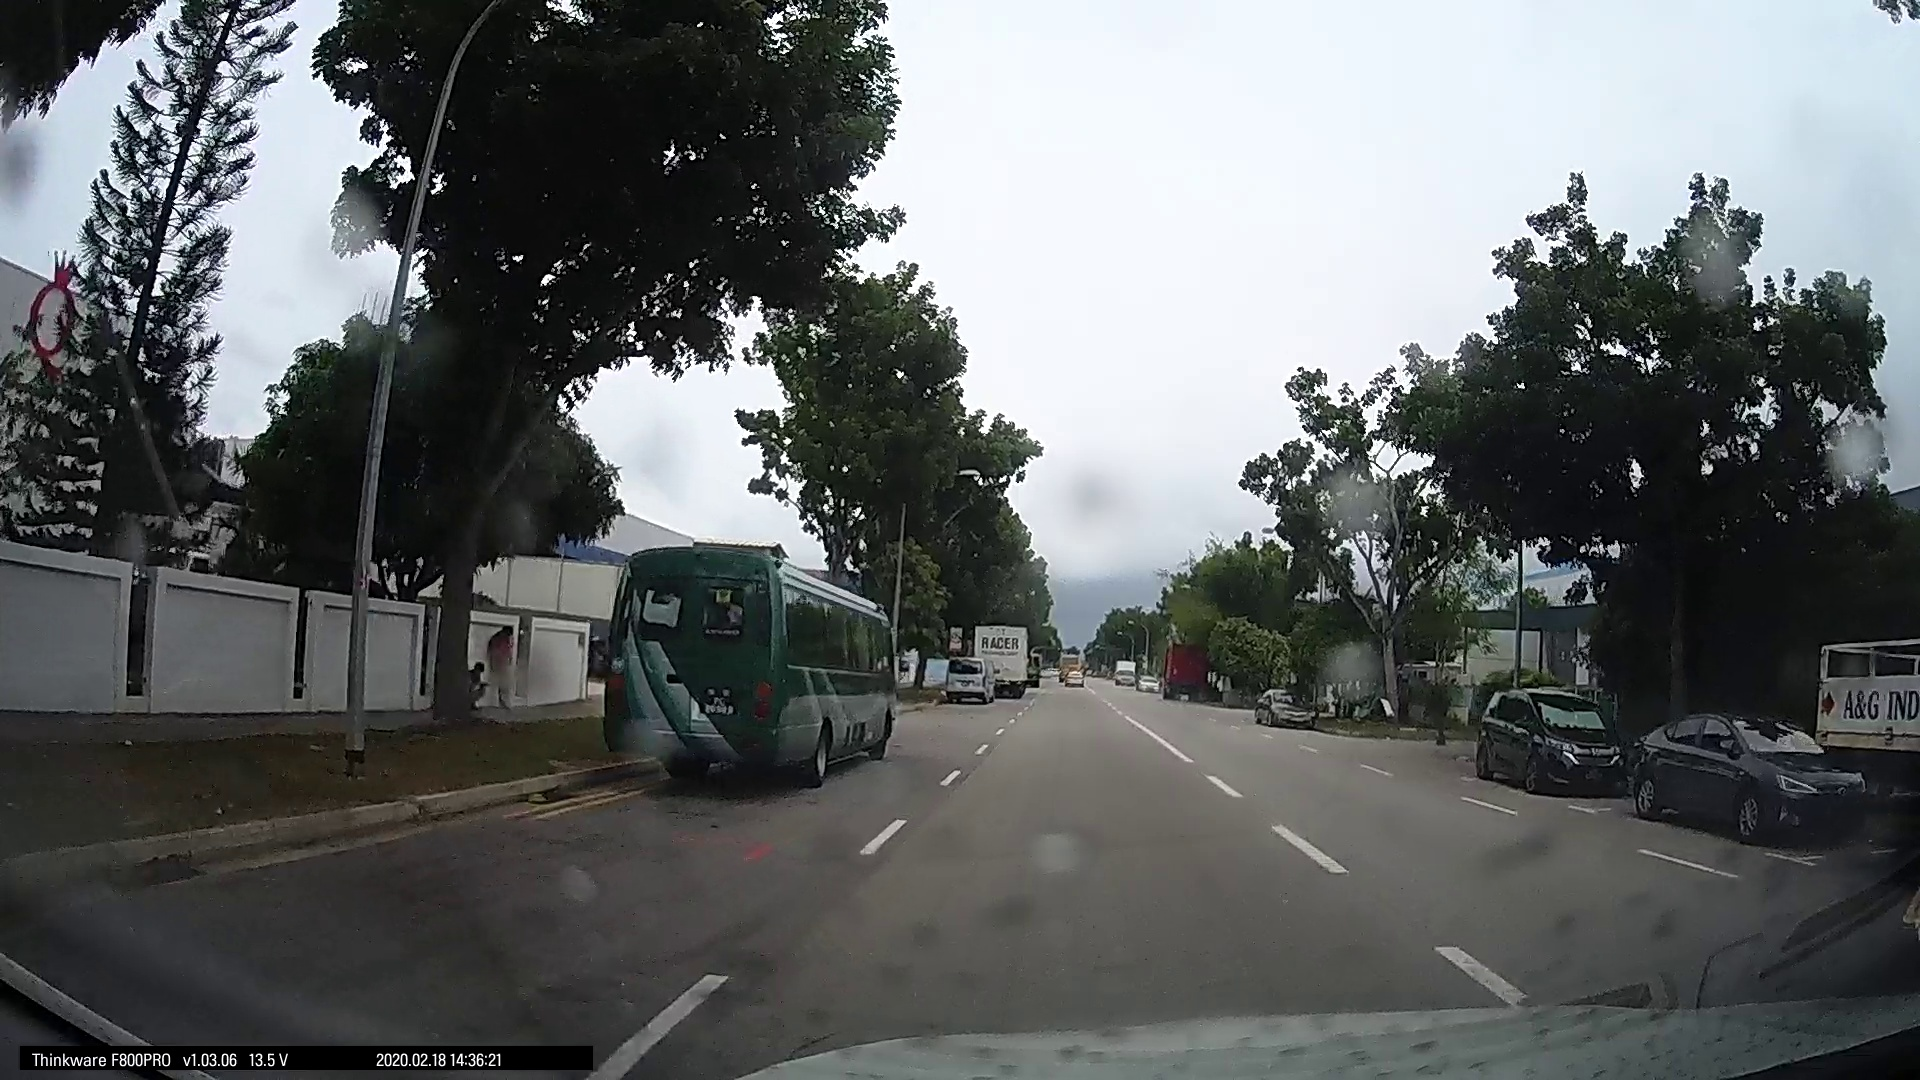Heavy Vehicle: (592, 543, 891, 790), (961, 622, 1033, 700)
Light Vehicle: (1617, 702, 1873, 845), (1462, 682, 1626, 796), (936, 651, 998, 702), (1254, 686, 1316, 729)
